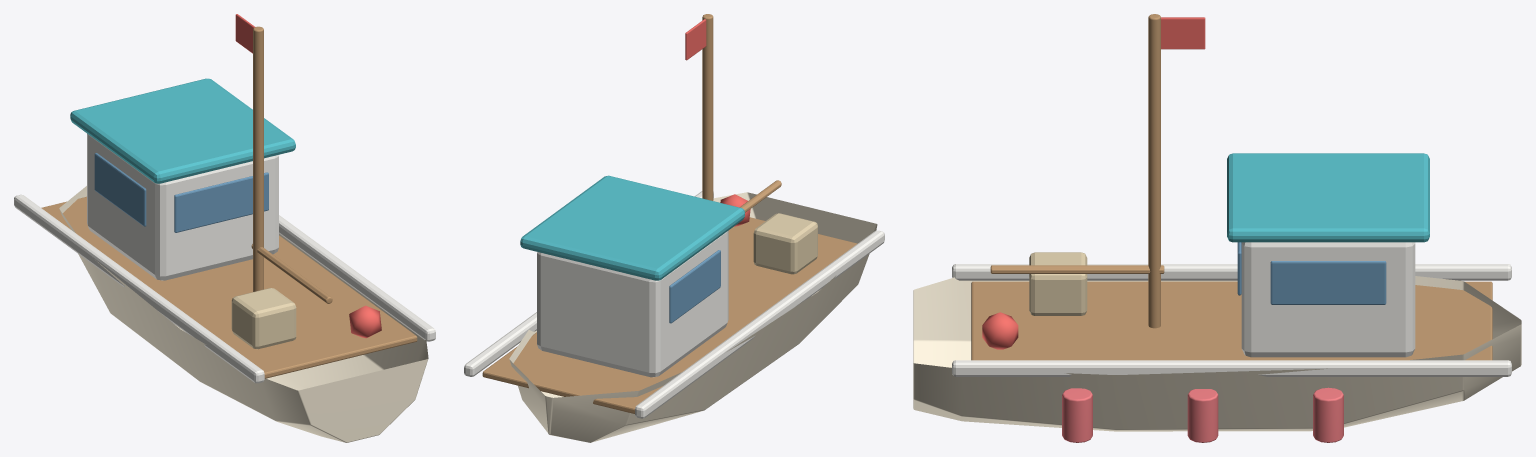
Rendered from boat.fbx.
3 views of the same model, side by side, from view 1: azimuth 30°, elevation 25°; view 2: azimuth 150°, elevation 25°; view 3: azimuth 270°, elevation 25° (orthographic). The views are drawn at different scales.
Visible parts, largest first — view 1: Visual; view 2: Visual; view 3: Visual.
Part boxes in pixels (x1,y1,x2,y2): Visual: (14, 14, 435, 442); Visual: (464, 14, 884, 442); Visual: (913, 14, 1521, 442).
Size of the model in its own units: 278 by 460 by 630.
